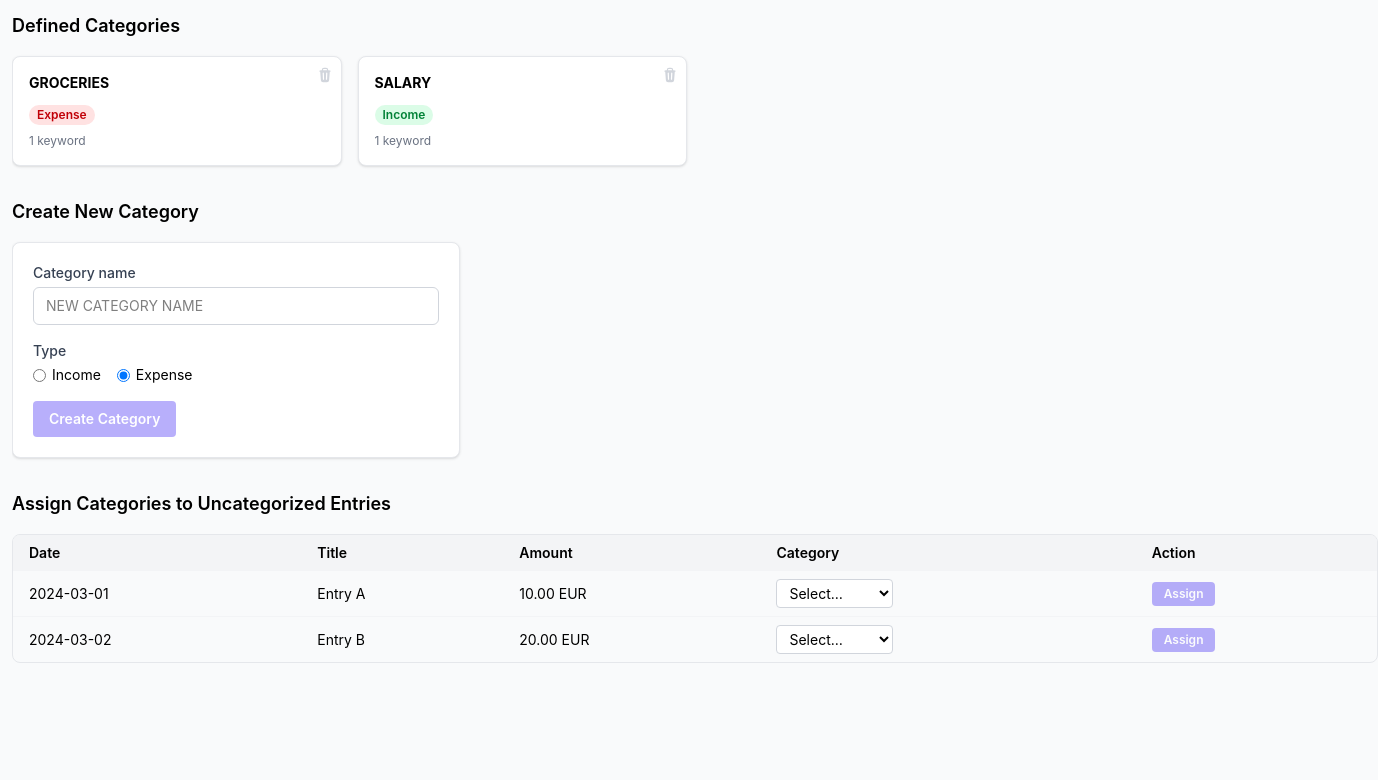
Scenario: CategoriesPage › row selection for an entry is preserved after refetch removes an earlier entry
Expected: the text "Entry A" is shown, 301,571 -> 503,616
Expected: the text "Entry B" is shown, 301,616 -> 503,662
Step 1. Select "GROCERIES" in the dropdown in the row of "2024-03-02" → (835, 640), box 776,625 -> 894,654
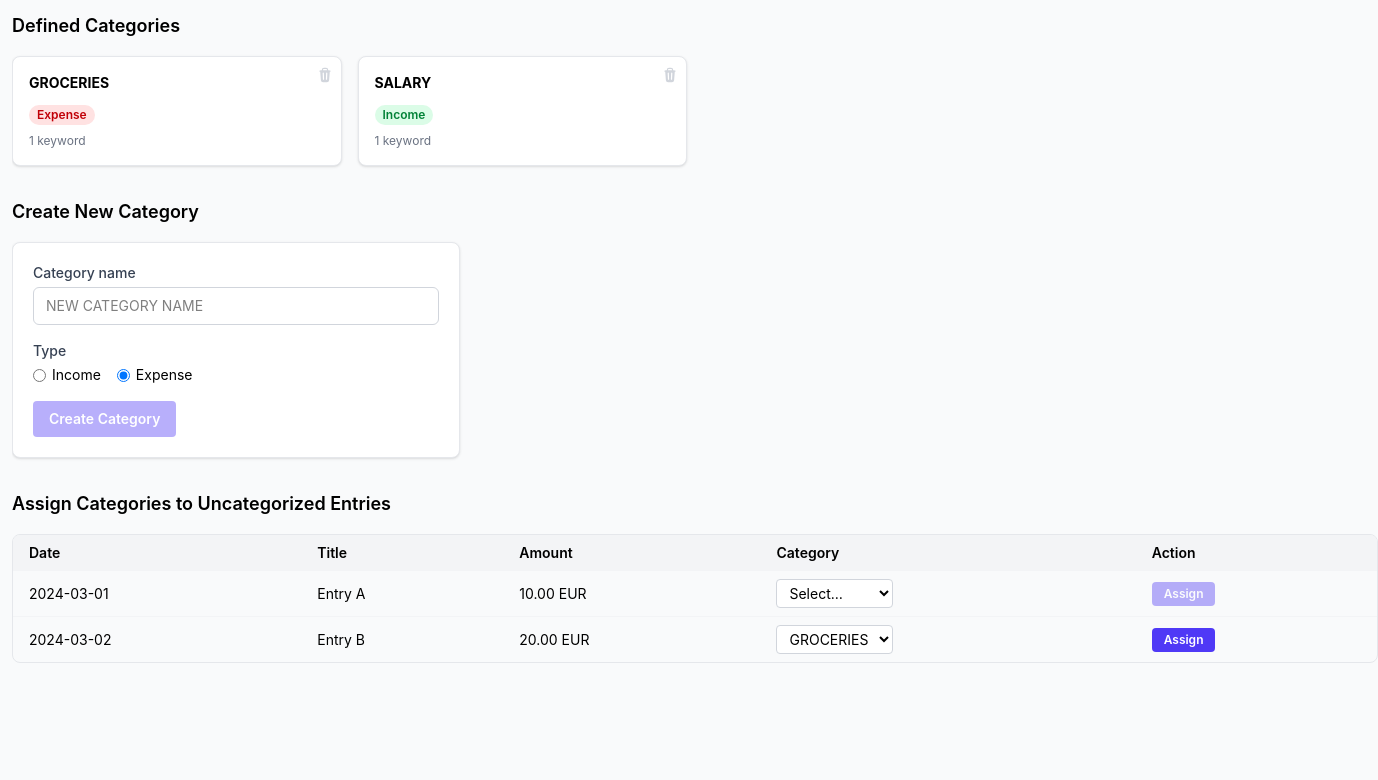
Assign Entry A, which triggers a refetch removing it from the list
Step 2. Select "SALARY" in the dropdown in the row of "2024-03-01" → (835, 594), box 776,579 -> 894,608
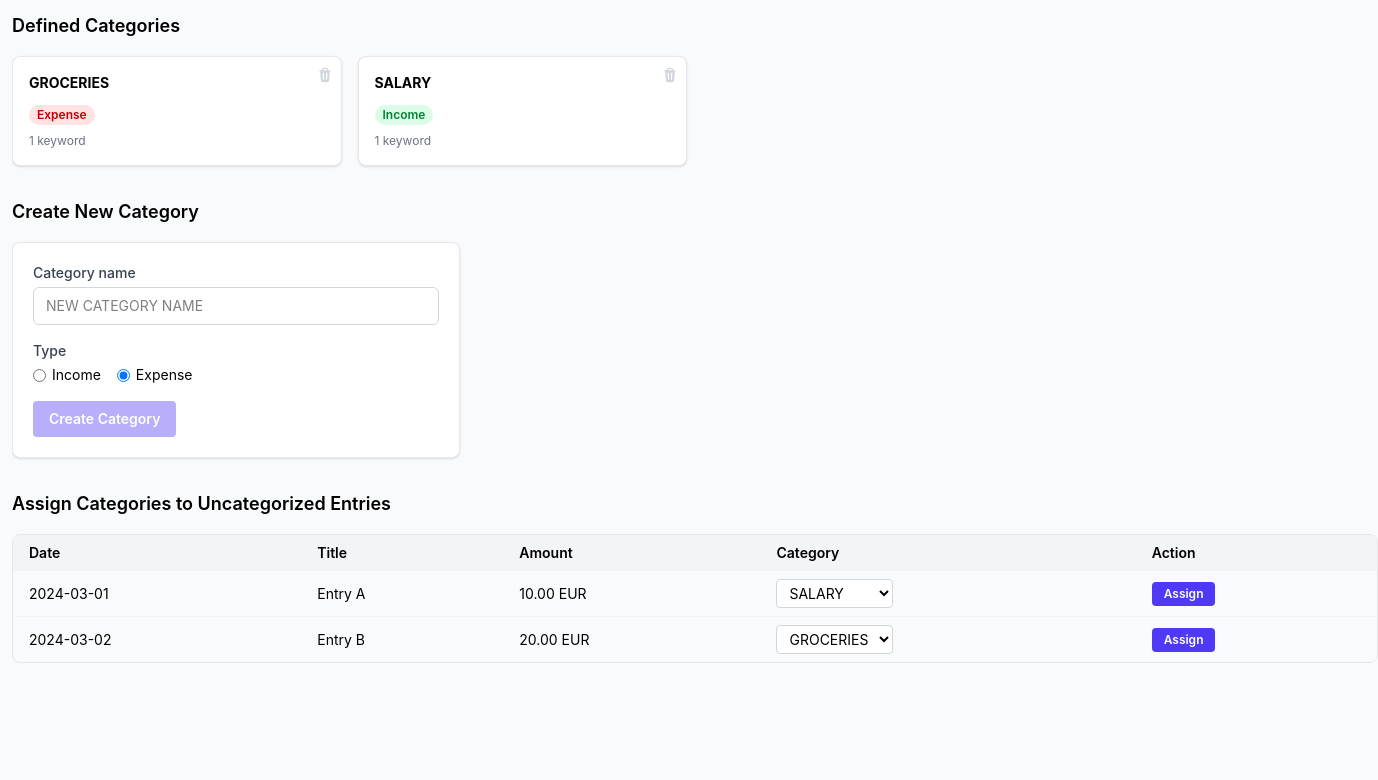
Step 3. Click the button "Assign" in the row of "2024-03-01" → (1184, 594), box 1152,582 -> 1216,606
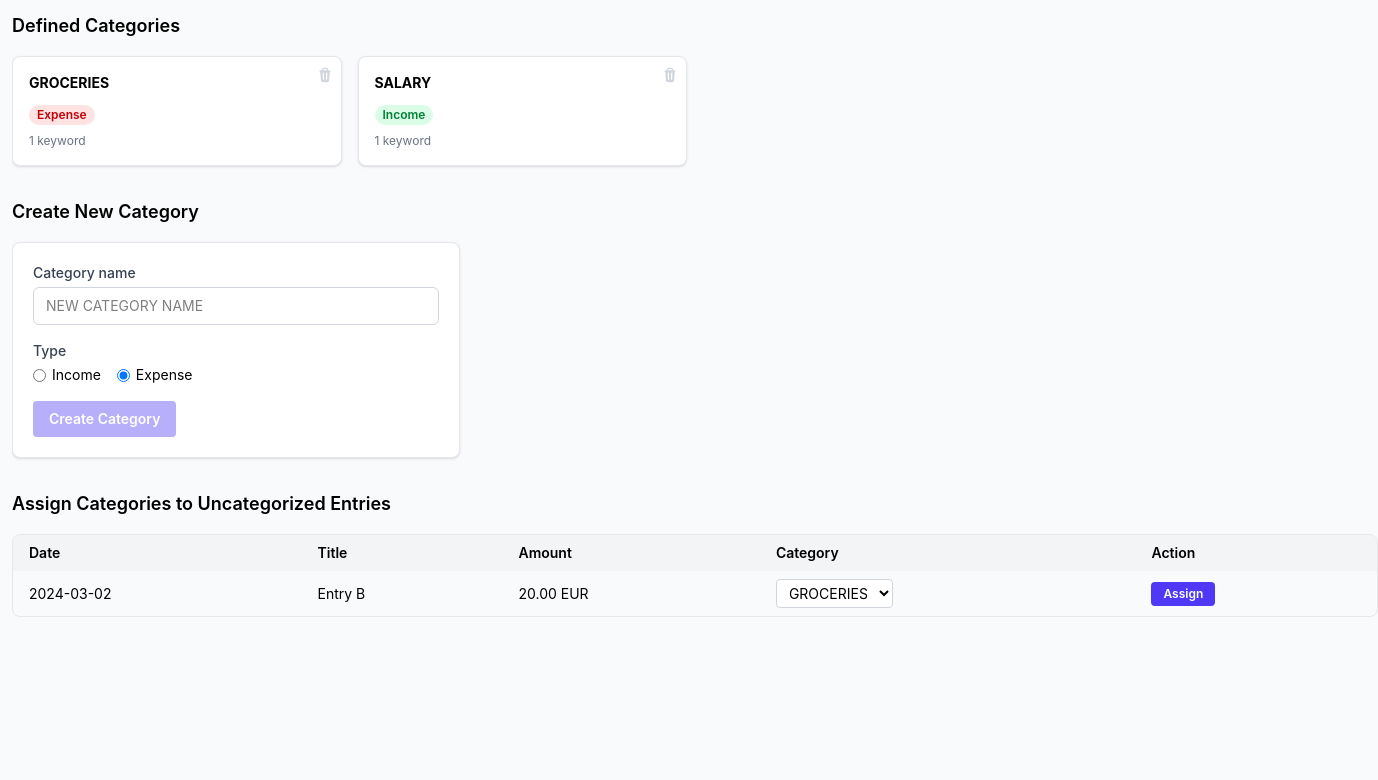
Expected: the text "Entry A" is gone
